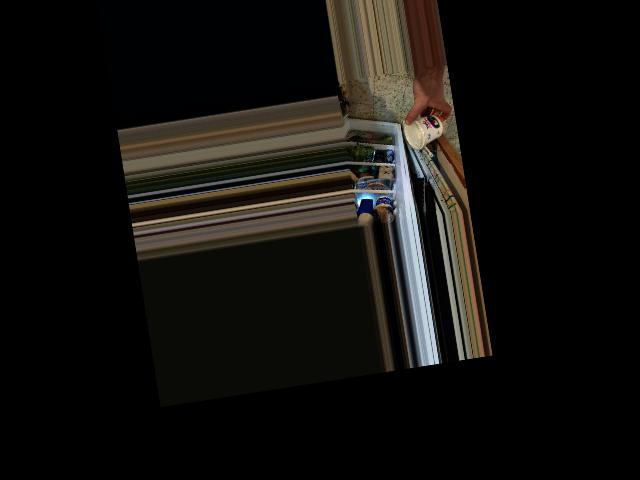cotage: (410, 110, 445, 150)
